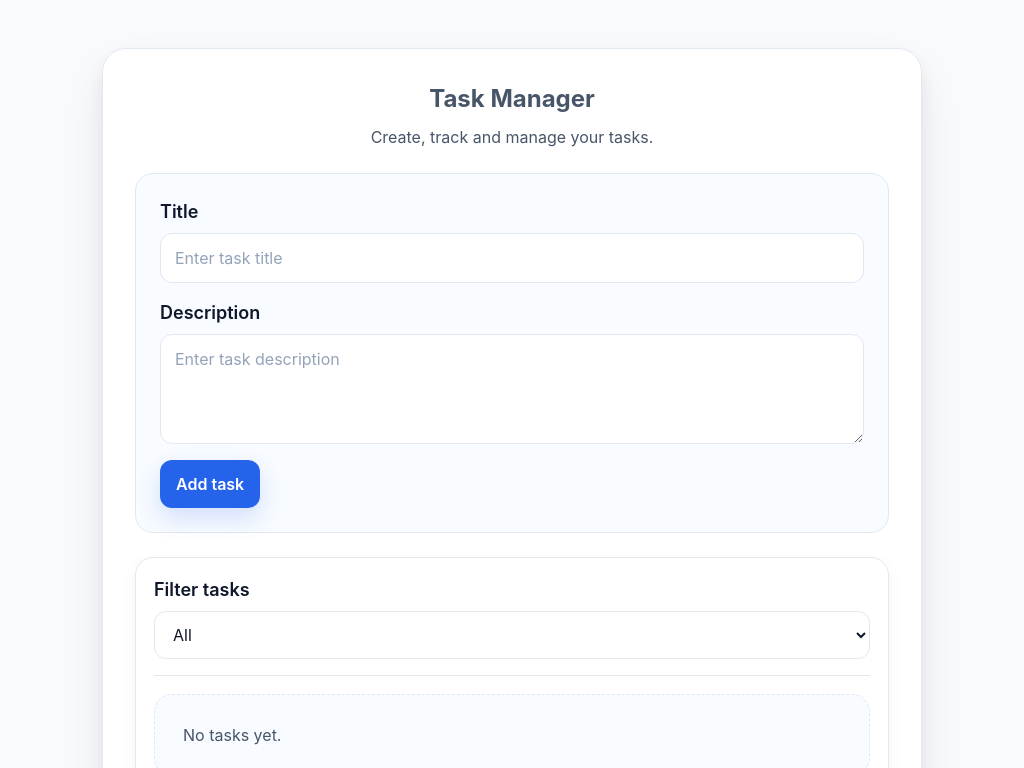
Test case: HomePage › handleAdd › ska visa standardfelmeddelande om API-felmeddelande saknas
Type "New task" into the field labelled "Title" at (512, 258), box [160,233,864,283]
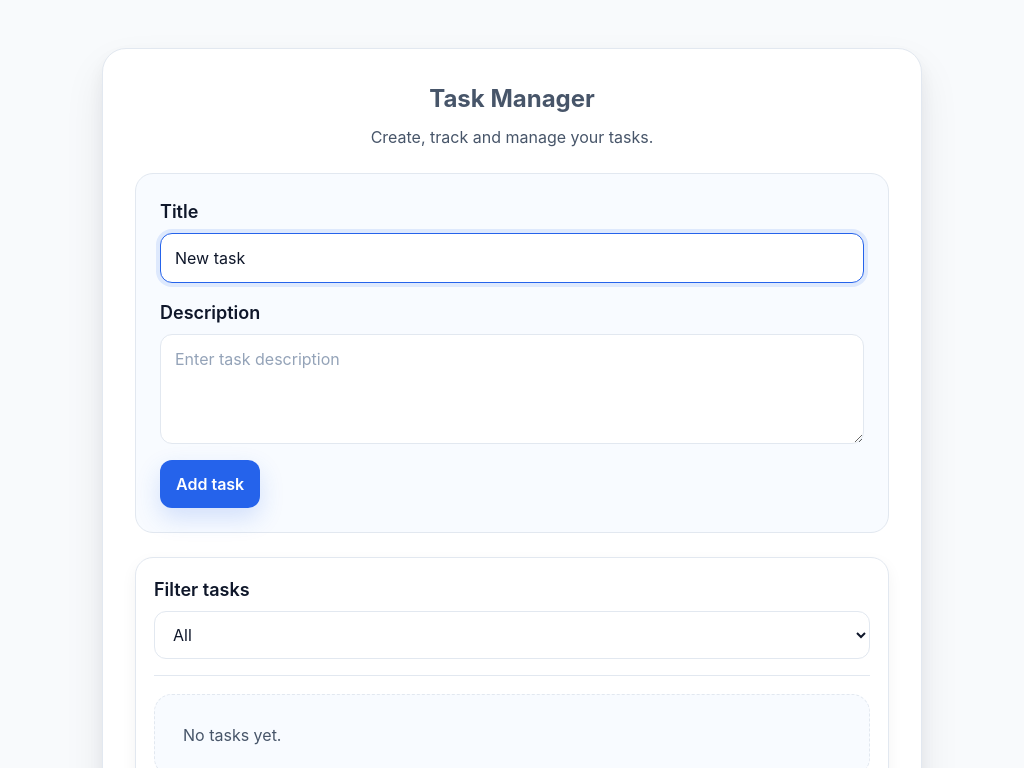
Type "New description" into the text box labelled "Description" at (512, 389), box [160,334,864,444]
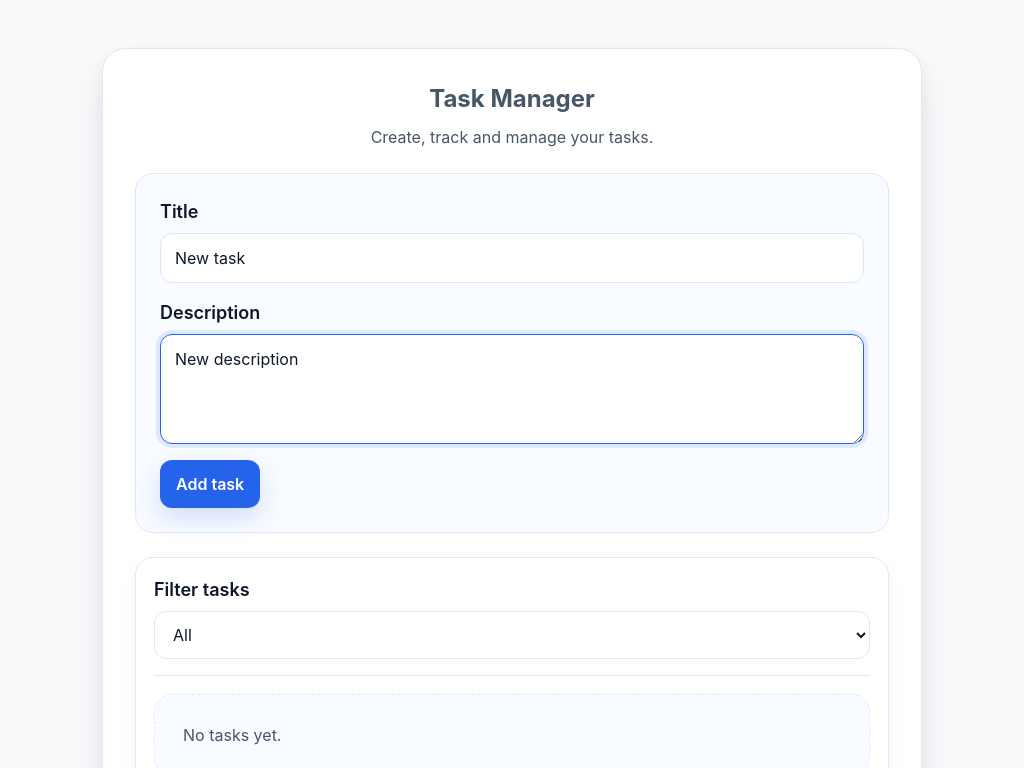
Click the button "Add task" at (210, 484), box [160,460,260,508]
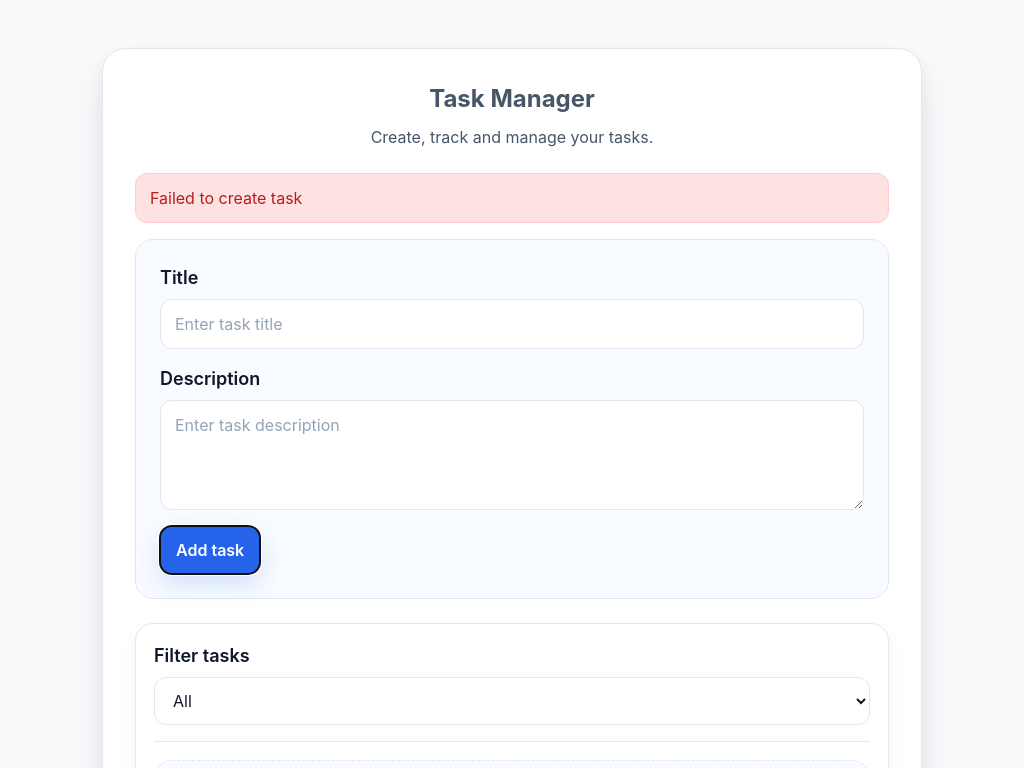
Expected: the text "Failed to create task" is shown, [135,173,889,223]
